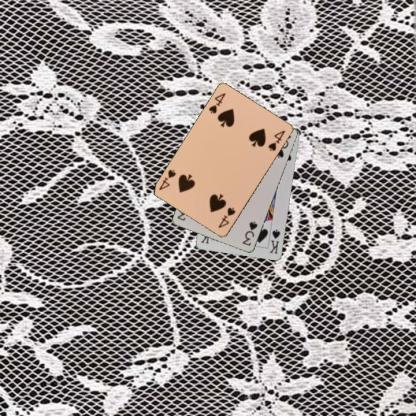3s: (240, 218, 259, 248)
4s: (206, 90, 227, 116), (216, 204, 236, 230)
Ks: (266, 226, 282, 256)
